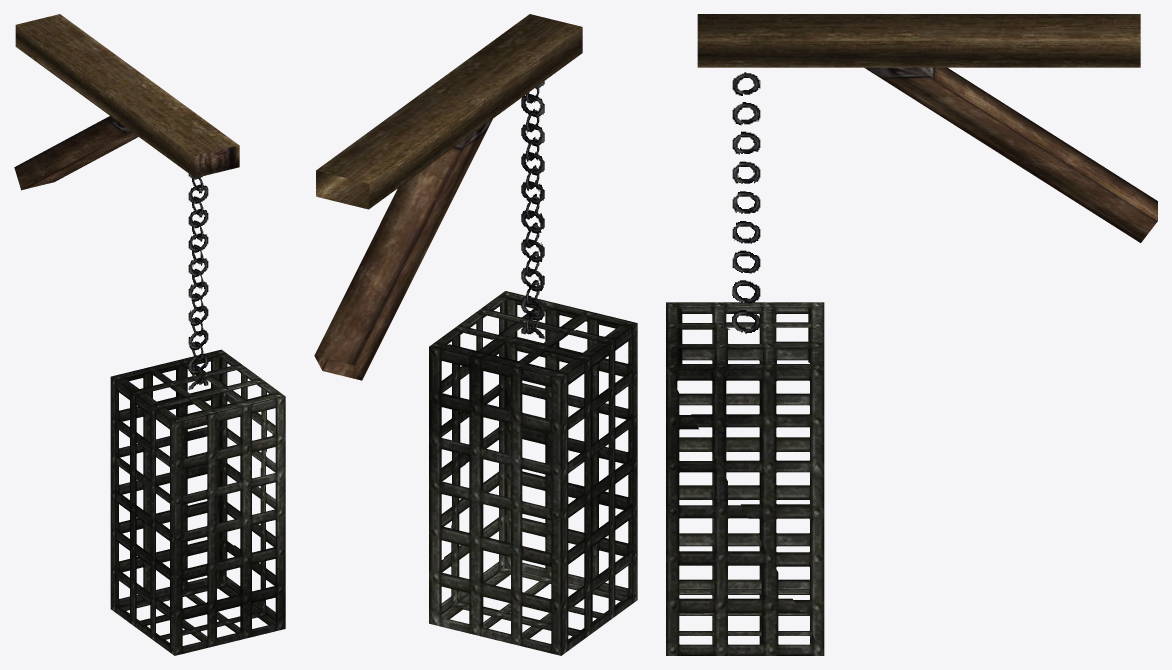
The model's file is OC_LOB_CAGE.glb.
3 renders of one model, left to right at view 1: azimuth 30°, elevation 25°; view 2: azimuth 150°, elevation 25°; view 3: azimuth 270°, elevation 25°, orthographic. The views are drawn at different scales.
Parts seen in each view (by area): view 1: Mesh; view 2: Mesh; view 3: Mesh.
Boxes of the visible parts, left/top/right/bottom form: Mesh: left=14, top=14, right=285, bottom=655; Mesh: left=314, top=14, right=637, bottom=655; Mesh: left=666, top=14, right=1157, bottom=655.
Bounding box in the file's own units: 1 × 4.15 × 3.11.
Materials: 3 (3 with a texture image).
